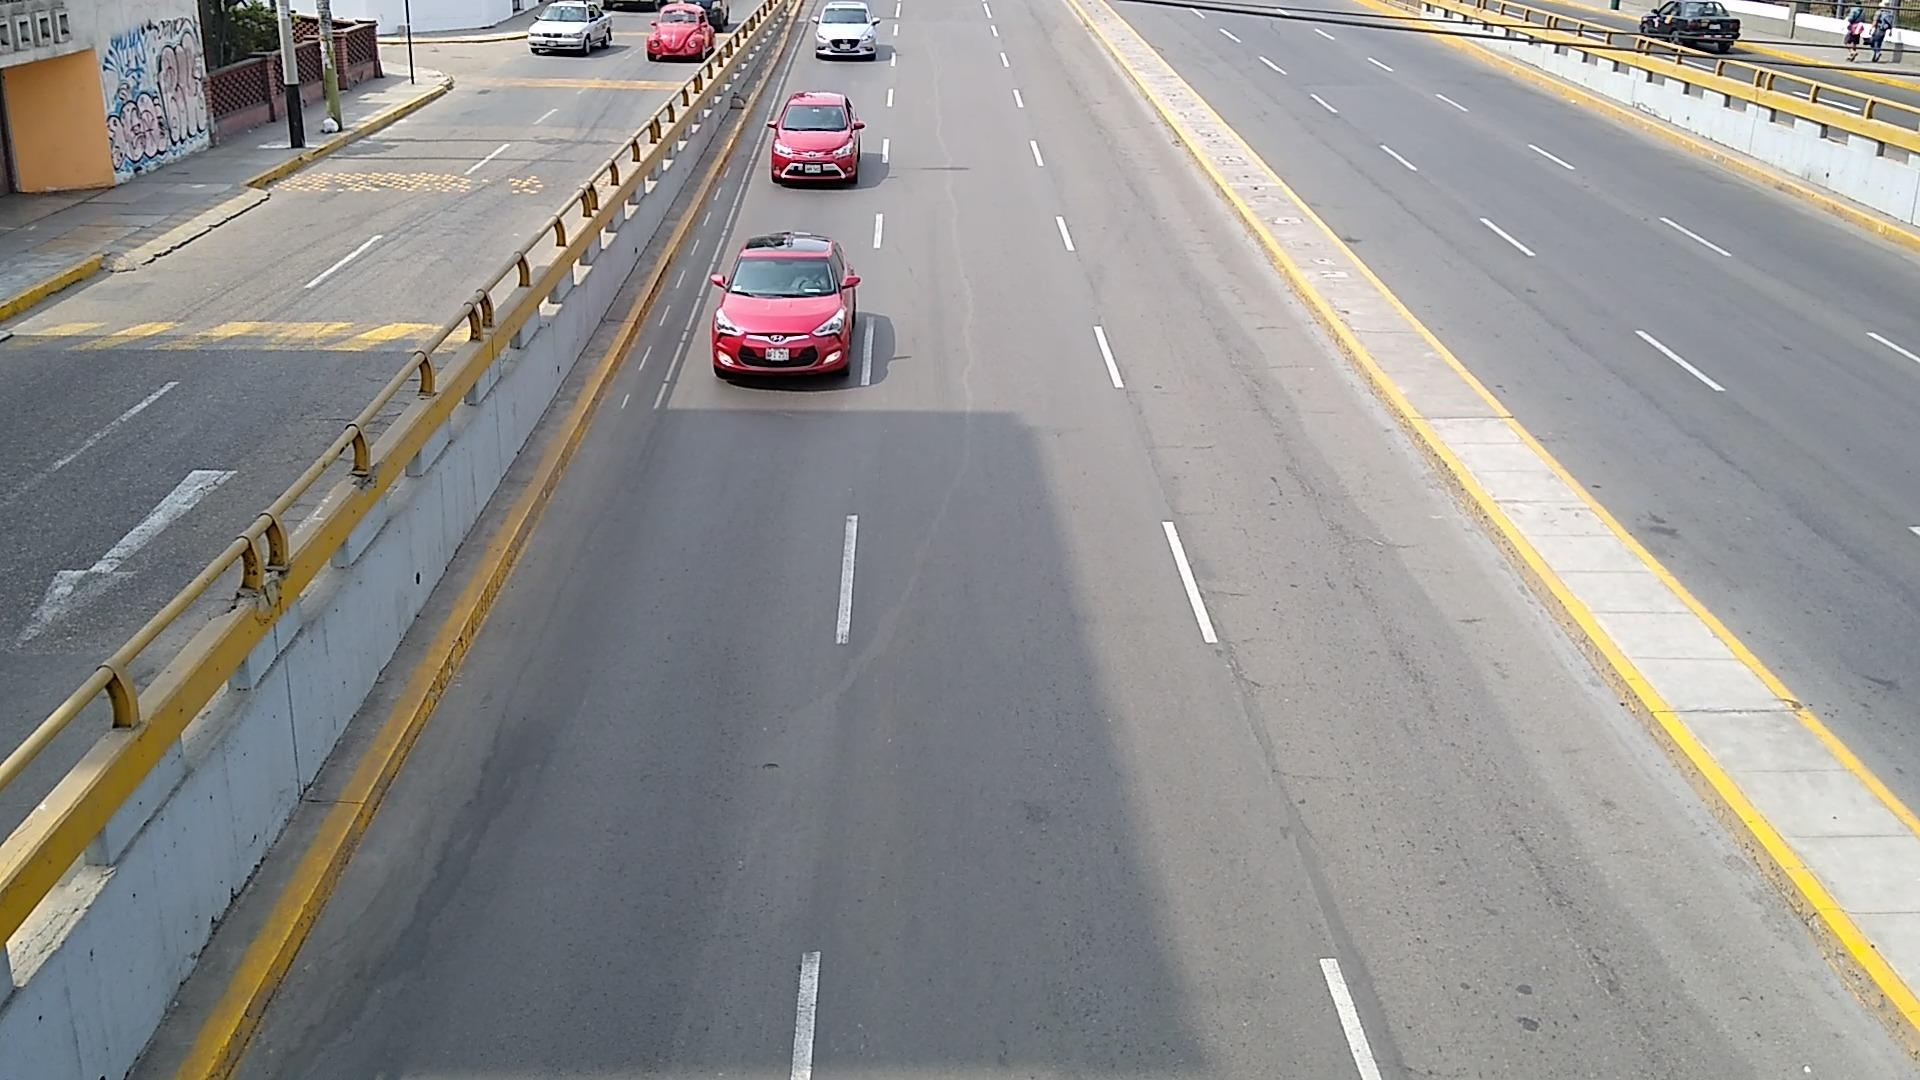car: (708, 232, 858, 378)
